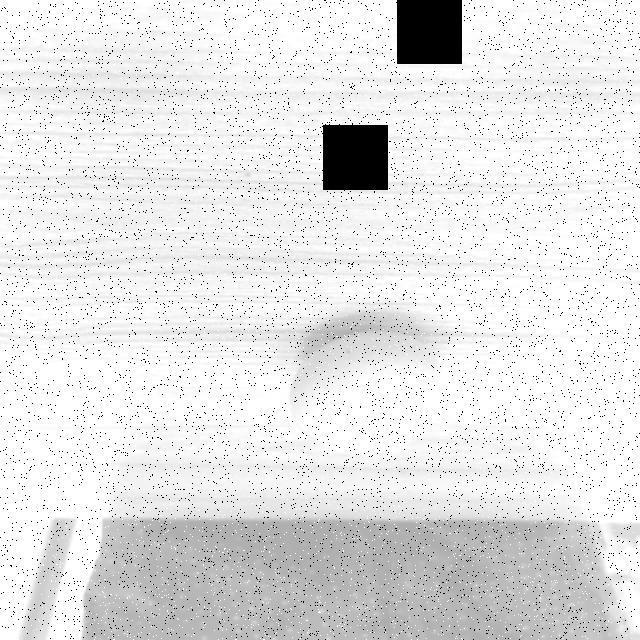egg: (284, 323, 450, 459)
